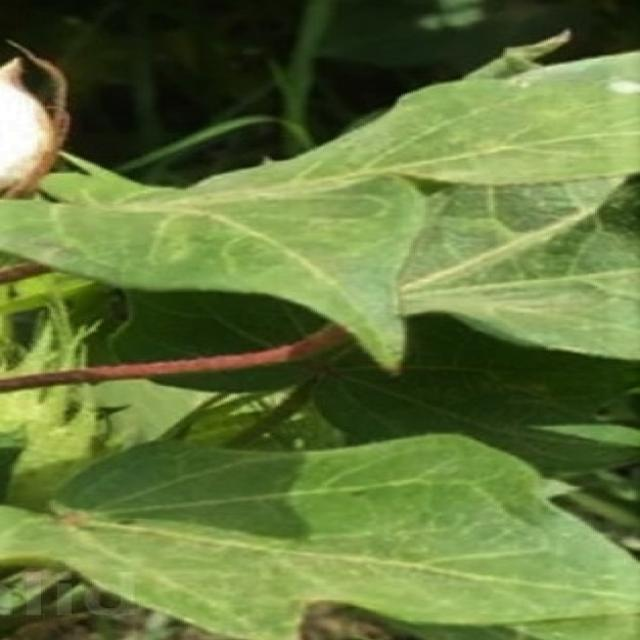Healthy Leaf: (57, 29, 639, 640)
